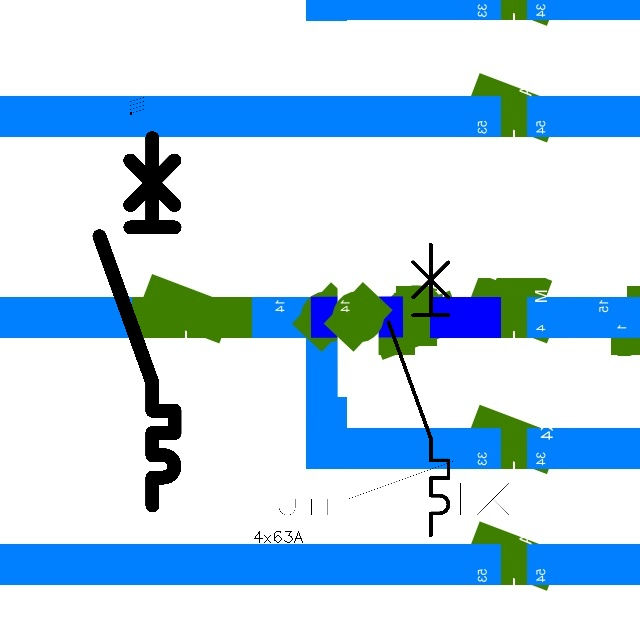interruptor_termomagnetico: (90, 128, 184, 514), (381, 237, 456, 543), (252, 454, 532, 522)
